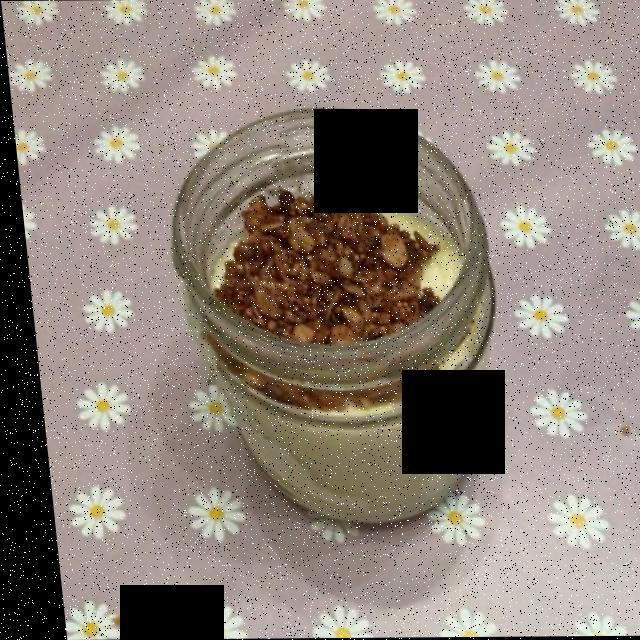crunch-muesli: (199, 168, 447, 416)
yaourt-yahourt-yogourt-ou-yoghourt-natural: (199, 187, 477, 513)
